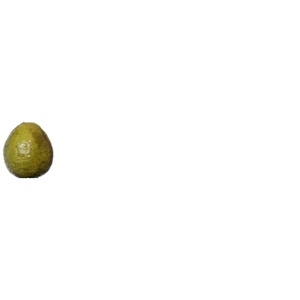goiaba: (1, 119, 57, 181)
